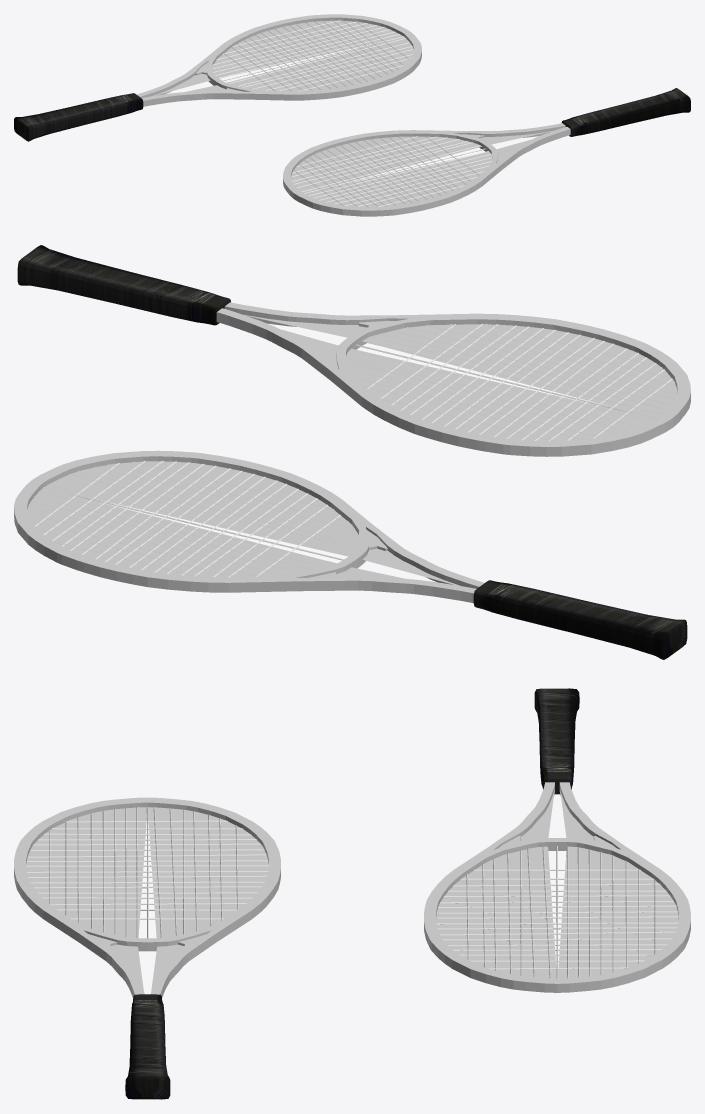
File: tennis.fbx
The picture shows the model from 3 angles, top to bottom: view 1: azimuth 30°, elevation 25°; view 2: azimuth 150°, elevation 25°; view 3: azimuth 270°, elevation 25°; orthographic projection. The views are drawn at different scales.
Visible parts, largest first — view 1: Cube.002, Cube, Plane.001, Plane.004, Cube.001, Cube.003; view 2: Cube.002, Cube, Plane.001, Plane.004, Cube.001, Cube.003; view 3: Cube, Cube.002, Plane.001, Plane.004, Cube.003, Cube.001.
Boxes of the visible parts, x1,y1,x2,y2 form: Cube.002: (283,123,570,216); Cube: (136,14,421,106); Plane.001: (213,20,413,91); Plane.004: (291,136,492,207); Cube.001: (14,93,143,141); Cube.003: (561,88,690,136); Cube.002: (216,302,690,456); Cube: (14,450,484,603); Plane.001: (28,460,358,577); Plane.004: (346,323,677,441); Cube.001: (473,580,687,659); Cube.003: (17,245,230,325); Cube: (424,782,690,992); Cube.002: (14,797,280,998); Plane.001: (436,846,678,978); Plane.004: (26,806,268,938); Cube.003: (125,994,170,1099); Cube.001: (534,688,579,794).
Size of the model in its own units: 373 by 10.28 by 274.
